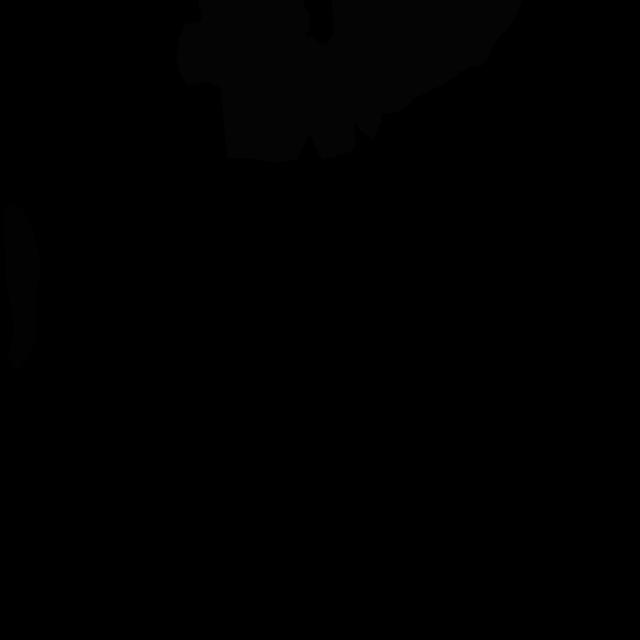cardboard: (4, 204, 40, 369)
soft_plastic: (176, 0, 356, 163), (332, 0, 522, 141)
